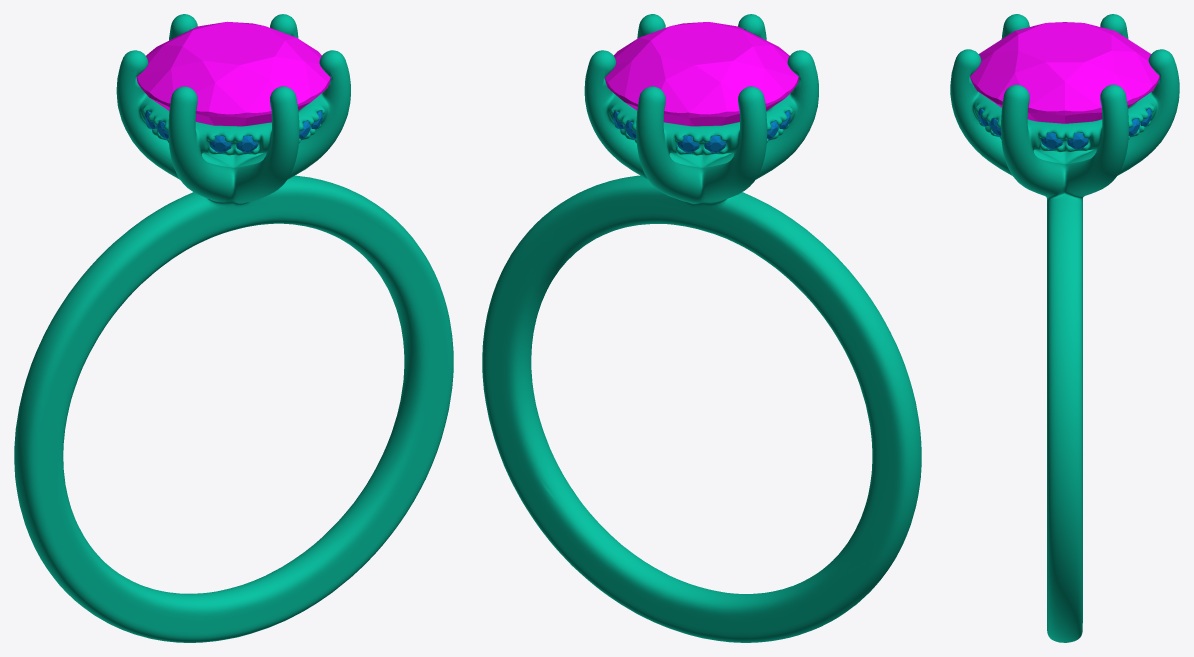
File: BE1D9876_RD_200ct_RENDER.glb
3 views of the same model, side by side, from view 1: azimuth 30°, elevation 25°; view 2: azimuth 150°, elevation 25°; view 3: azimuth 270°, elevation 25° (orthographic). The views are drawn at different scales.
Parts seen in each view (by area): view 1: Metal 01, CS_Diamond_Round; view 2: Metal 01, CS_Diamond_Round; view 3: Metal 01, CS_Diamond_Round.
Boxes of the visible parts, x1=… form: Metal 01: x1=14, y1=14, x2=453, y2=642; CS_Diamond_Round: x1=136, y1=21, x2=330, y2=126; Metal 01: x1=482, y1=14, x2=921, y2=642; CS_Diamond_Round: x1=604, y1=22, x2=798, y2=126; Metal 01: x1=950, y1=14, x2=1179, y2=642; CS_Diamond_Round: x1=970, y1=22, x2=1159, y2=123.
Bounding box in the file's own units: 20.5 × 26.82 × 9.66.
